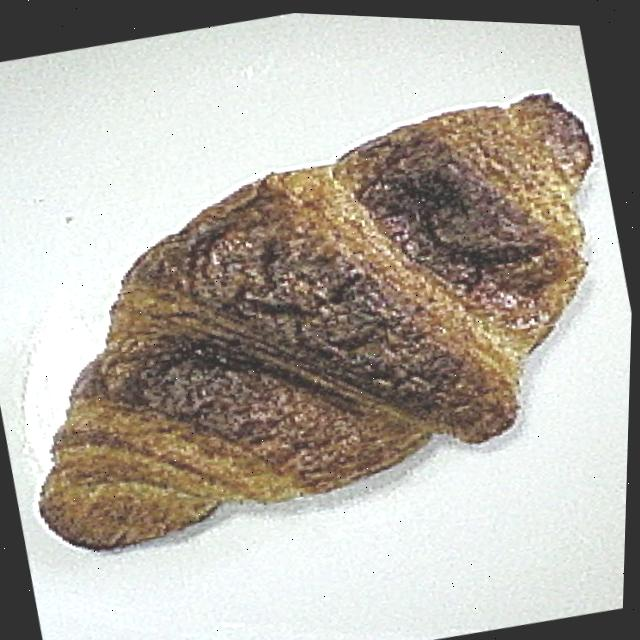面包点心: (0, 27, 639, 610)
